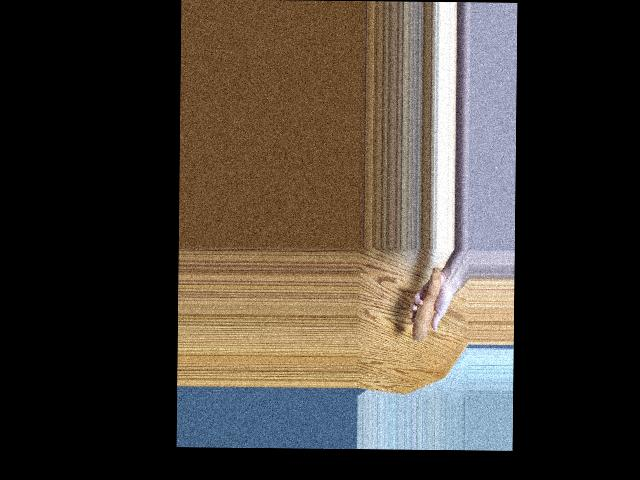sweet_potato: (409, 259, 441, 341)
